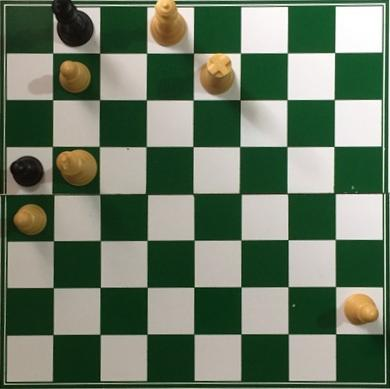black-king: (50, 1, 95, 50)
black-pawn: (9, 153, 46, 188)
white-king: (55, 149, 103, 188)
white-pawn: (341, 292, 380, 328), (56, 59, 93, 95), (12, 201, 49, 236)
white-queen: (149, 1, 189, 50)
white-rook: (199, 51, 237, 95)
